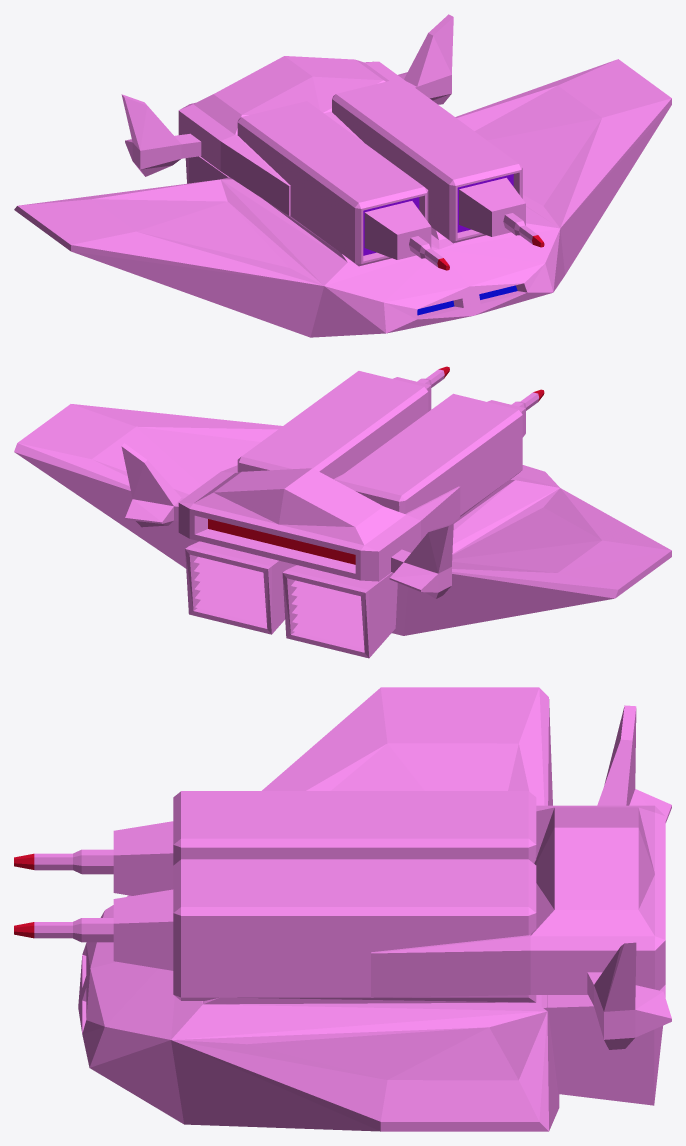
File: Enemy_Fly.fbx
3 views of the same model, one above another, from view 1: azimuth 30°, elevation 25°; view 2: azimuth 150°, elevation 25°; view 3: azimuth 270°, elevation 25° (orthographic). The views are drawn at different scales.
Visible parts, largest first — view 1: body.001; view 2: body.001; view 3: body.001.
Part boxes in pixels (box(x1,y1,x2,y2)): body.001: box(14, 14, 671, 337); body.001: box(14, 366, 671, 658); body.001: box(14, 687, 671, 1131).
Bounding box in the file's own units: 3.61 × 0.8398 × 2.31.
